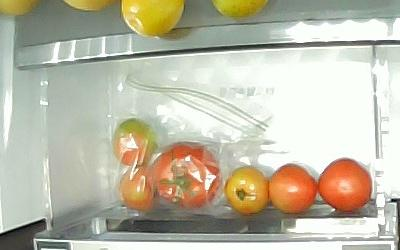tomato: (317, 156, 372, 212), (267, 161, 317, 214), (222, 164, 269, 216)
tomato_vinyl: (149, 140, 221, 209), (110, 116, 159, 167), (116, 164, 160, 211)
